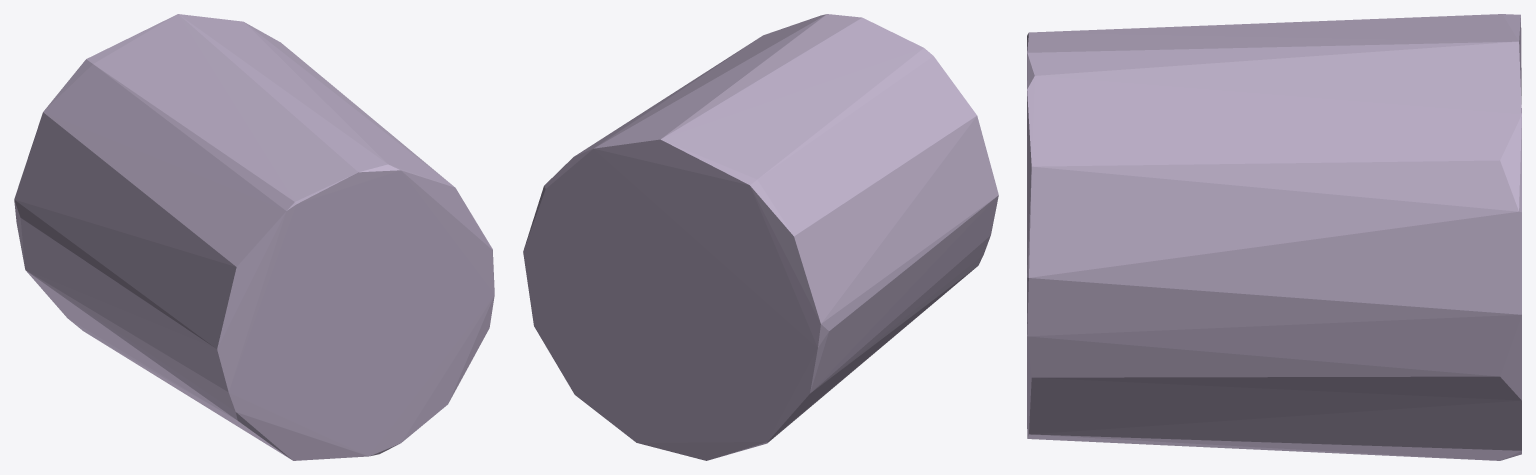
The model's file is food_beverage_coffeeCup_k01.glb.
The picture shows the model from 3 angles, left to right: view 1: azimuth 30°, elevation 25°; view 2: azimuth 150°, elevation 25°; view 3: azimuth 270°, elevation 25°; orthographic projection. The views are drawn at different scales.
Visible parts, largest first — view 1: geometry_0; view 2: geometry_0; view 3: geometry_0.
Boxes of the visible parts, x1,y1,x2,y2 form: geometry_0: [14, 14, 494, 460]; geometry_0: [523, 14, 998, 460]; geometry_0: [1027, 14, 1521, 460].
Bounding box in the file's own units: 0.4323 × 0.4283 × 0.48.
